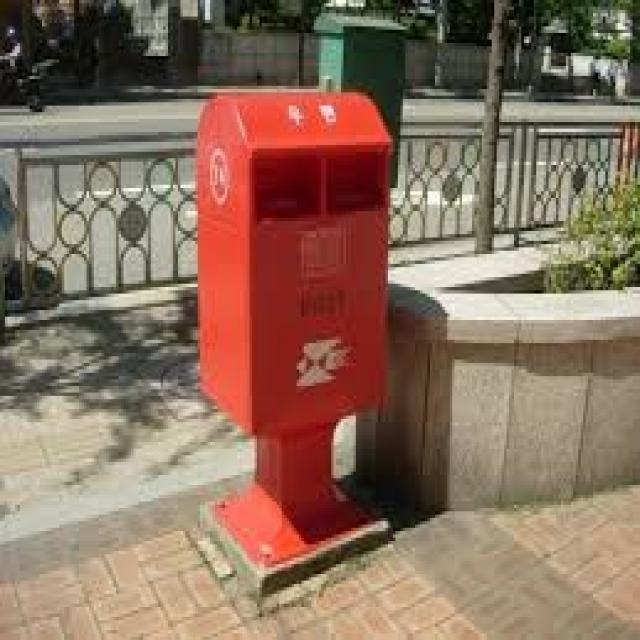Post Box: (193, 88, 394, 571)
